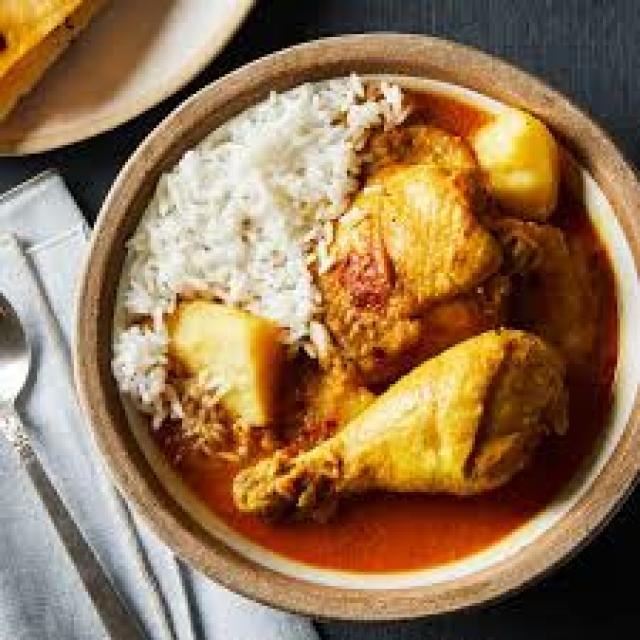Frango: (176, 298, 620, 574), (361, 108, 617, 575)
